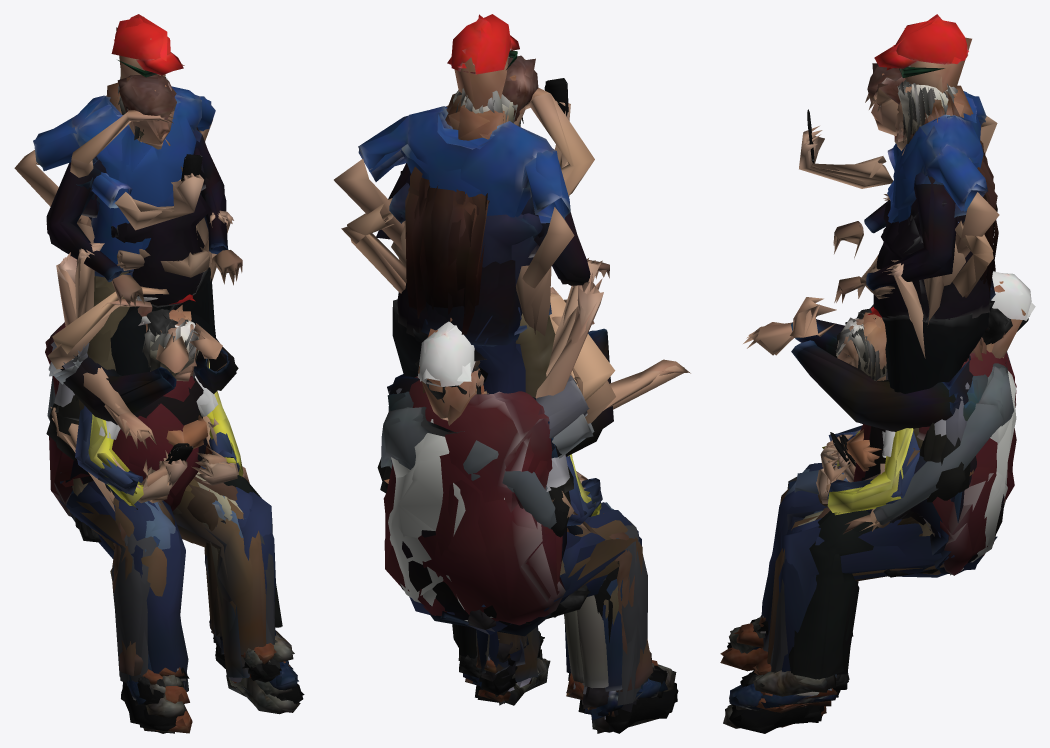
File: crowd_cast.glb
3 renders of one model, left to right at view 1: azimuth 30°, elevation 25°; view 2: azimuth 150°, elevation 25°; view 3: azimuth 270°, elevation 25°, orthographic. The views are drawn at different scales.
Parts seen in each view (by area): view 1: fan_32_lod2, fan_04_sit_lod2, fan_02_sit_lod2, fan_35_lod2, fan_04_sit_lod3, fan_36_lod2, fan_27_sit_lod2, fan_02_sit_lod3, fan_32_lod3, fan_05_sit_lod2, fan_35_lod3, fan_36_lod3 (+28 smaller); view 2: fan_32_lod2, fan_02_sit_lod2, fan_36_lod2, fan_02_sit_lod3, fan_11_sit_lod2, fan_34_lod2, fan_27_sit_lod2, fan_35_lod2, fan_04_sit_lod2, fan_35_lod3, fan_24_sit_lod2, fan_32_lod3 (+22 smaller); view 3: fan_11_sit_lod2, fan_32_lod2, fan_02_sit_lod2, fan_36_lod2, fan_04_sit_lod2, fan_02_sit_lod3, fan_35_lod2, fan_11_sit_lod3, fan_04_sit_lod3, fan_36_lod3, fan_33_lod2, fan_32_lod3 (+20 smaller).
Boxes of the visible parts, x1,y1,x2,y2 form: fan_32_lod2: (14, 16, 215, 542); fan_04_sit_lod2: (60, 296, 296, 733); fan_02_sit_lod2: (45, 322, 275, 733); fan_35_lod2: (46, 74, 242, 306); fan_04_sit_lod3: (63, 331, 300, 733); fan_36_lod2: (76, 142, 214, 375); fan_27_sit_lod2: (52, 286, 303, 727); fan_02_sit_lod3: (45, 326, 272, 730); fan_32_lod3: (33, 14, 211, 539); fan_05_sit_lod2: (99, 318, 237, 684); fan_35_lod3: (46, 77, 240, 302); fan_36_lod3: (70, 142, 215, 362); fan_32_lod2: (334, 14, 588, 624); fan_02_sit_lod2: (383, 376, 638, 702); fan_36_lod2: (393, 93, 551, 382); fan_02_sit_lod3: (385, 318, 641, 700); fan_11_sit_lod2: (381, 321, 654, 667); fan_34_lod2: (347, 87, 594, 293); fan_27_sit_lod2: (396, 293, 675, 733); fan_35_lod2: (388, 55, 609, 629); fan_04_sit_lod2: (389, 287, 658, 732); fan_35_lod3: (376, 58, 601, 629); fan_24_sit_lod2: (388, 370, 605, 714); fan_32_lod3: (358, 14, 590, 617); fan_11_sit_lod2: (753, 272, 1031, 696); fan_32_lod2: (874, 20, 999, 577); fan_02_sit_lod2: (720, 350, 1016, 715); fan_36_lod2: (873, 99, 998, 393); fan_04_sit_lod2: (725, 297, 1004, 724); fan_02_sit_lod3: (720, 353, 1016, 727); fan_35_lod2: (833, 66, 995, 303); fan_11_sit_lod3: (755, 271, 1035, 692); fan_04_sit_lod3: (723, 310, 1004, 728); fan_36_lod3: (877, 90, 997, 392); fan_33_lod2: (799, 79, 965, 380); fan_32_lod3: (884, 14, 987, 573).
Size of the model in its own units: 0.7351 by 2.26 by 0.9479.
Materials: 1 (1 with a texture image).
